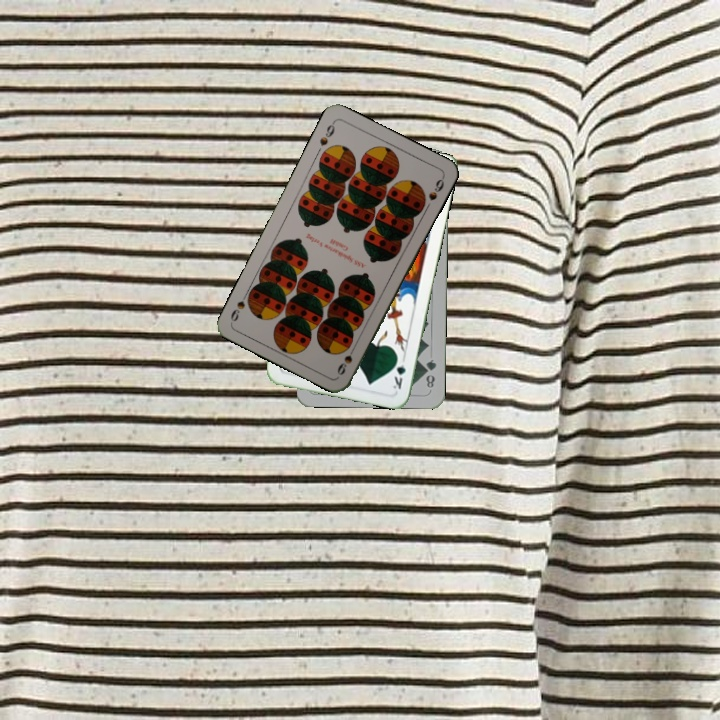G8: (421, 355, 439, 391)
GK: (388, 352, 408, 392)
S9: (333, 340, 359, 378), (315, 118, 337, 149)
